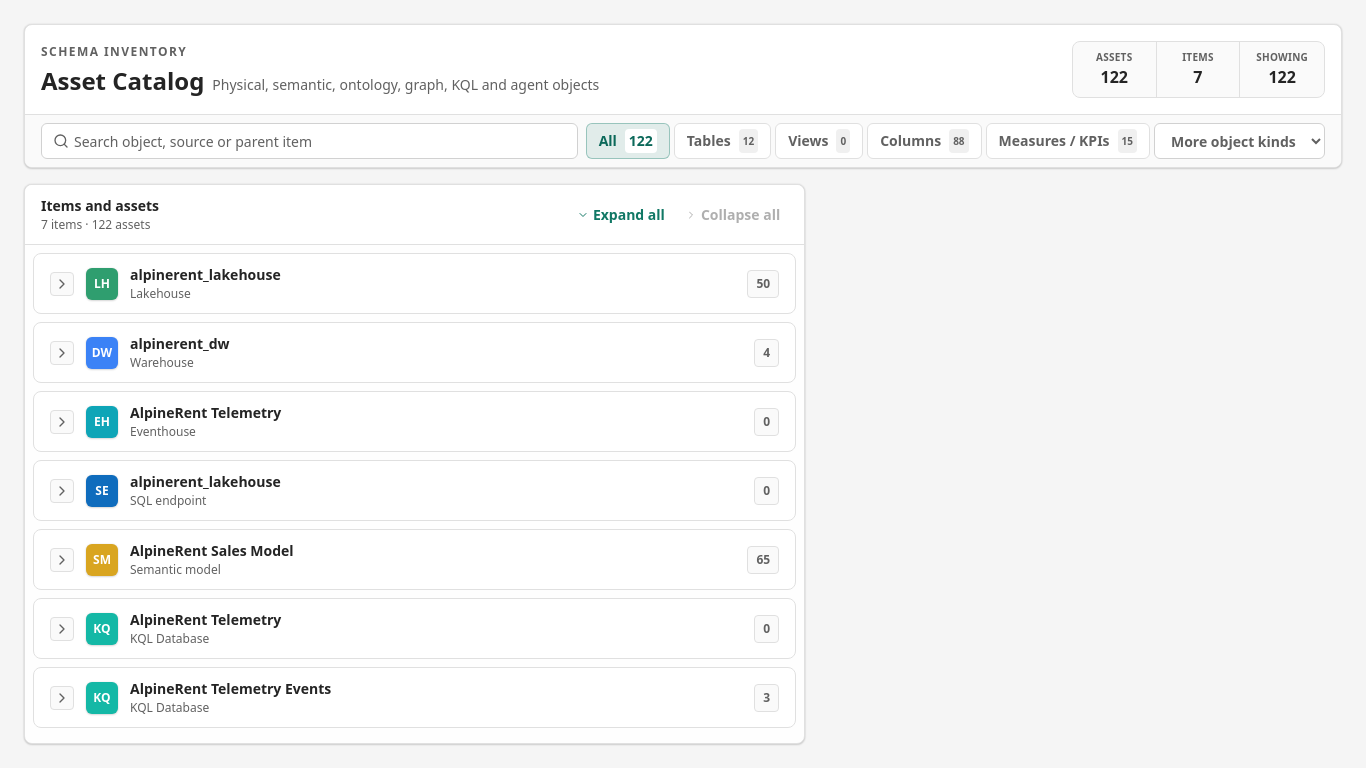
Test: AssetCatalogView › shows resolved DAX dependencies for a selected measure
Type "Total Revenue" into the field named "Search assets". click: (309, 141)
box: x1=41 y1=123 x2=578 y2=159
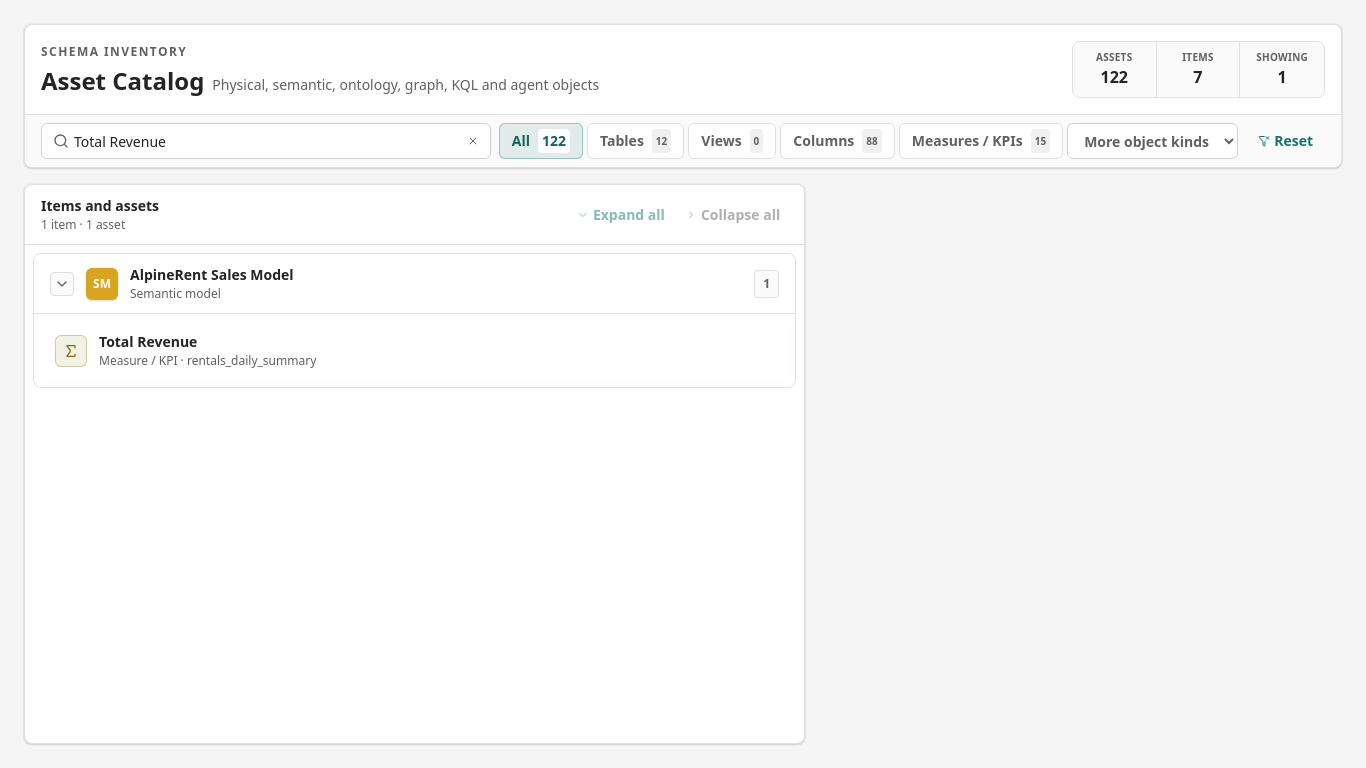
Click the button "Total Revenue". click: (71, 350)
box: x1=42 y1=322 x2=787 y2=379
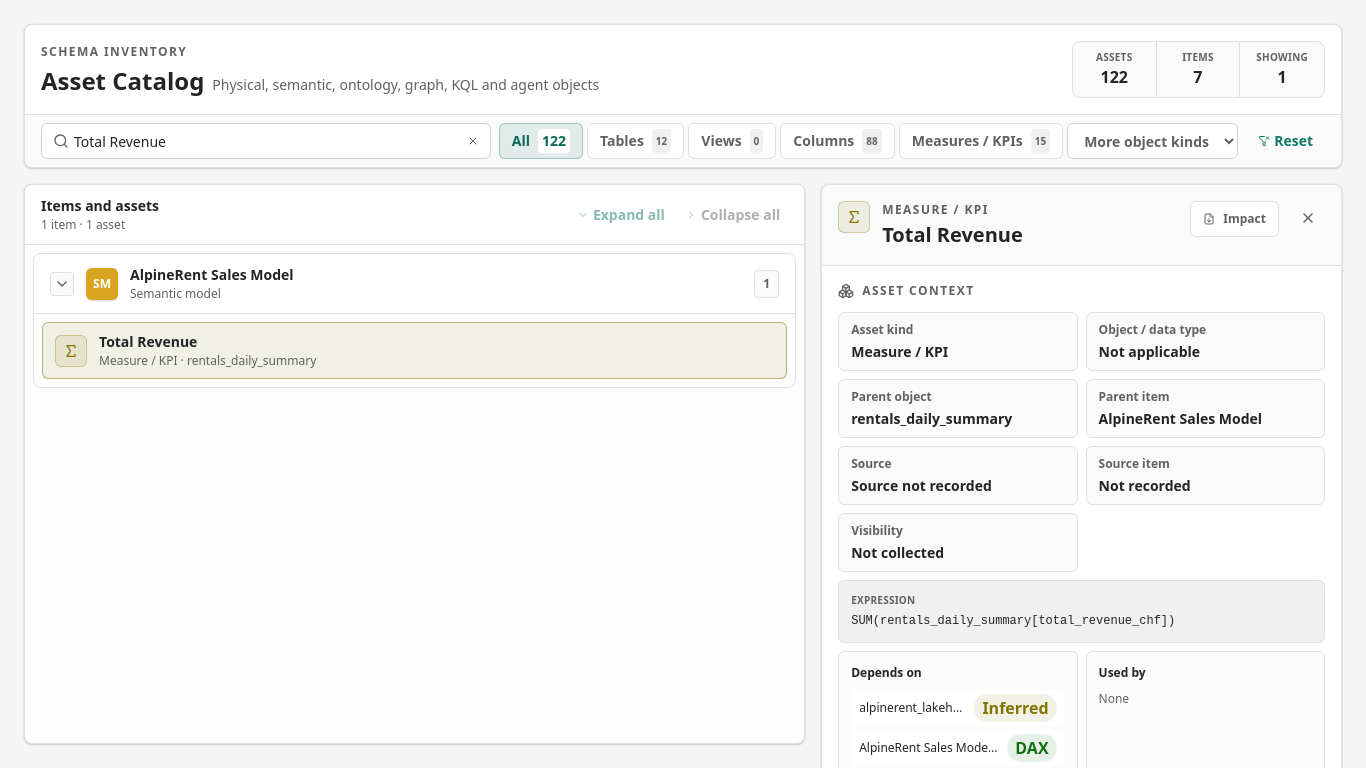
Expected: the element named "Total Revenue inspector" is shown, x1=821 y1=184 x2=1342 y2=744
Expected: the heading "Depends on" is shown, x1=851 y1=664 x2=922 y2=681
Expected: the text "DAX" is shown, x1=1007 y1=734 x2=1056 y2=762
